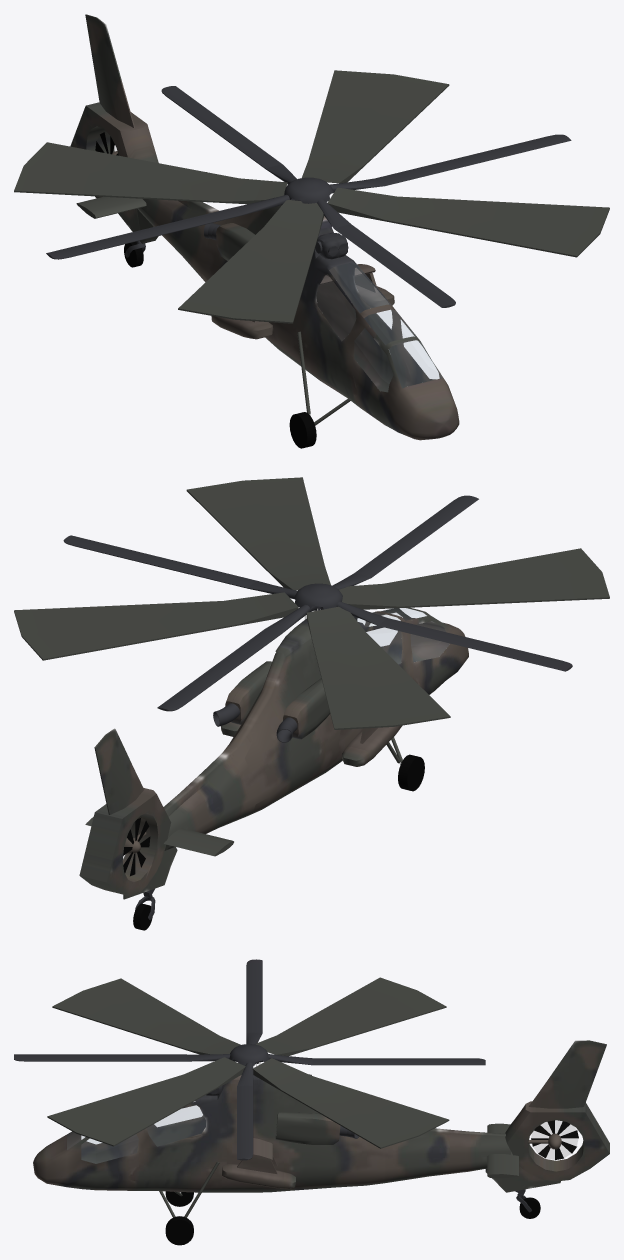
Rendered from attack_heli_oh1.glb.
3 renders of one model, top to bottom at view 1: azimuth 30°, elevation 25°; view 2: azimuth 150°, elevation 25°; view 3: azimuth 270°, elevation 25°, orthographic. The views are drawn at different scales.
Parts seen in each view (by area): view 1: slot; view 2: slot; view 3: slot.
Boxes of the visible parts, x1,y1,x2,y2 form: slot: [14, 14, 609, 448]; slot: [14, 477, 609, 930]; slot: [14, 959, 609, 1245].
Size of the model in its own units: 9.5 by 4.08 by 12.
6 materials, 3 textured.
